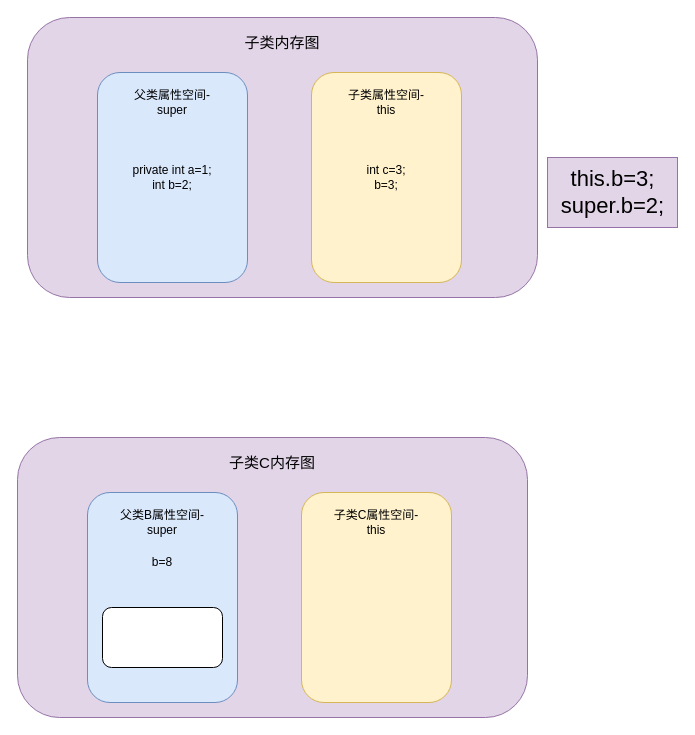
The diagram is 695 pixels wide and 735 high, and some of its shapes have lost their labels. Each missing label, with the box of its shape:
c=9: (300, 492, 452, 702)
父类A属性空间-super a=7: (102, 606, 222, 668)
